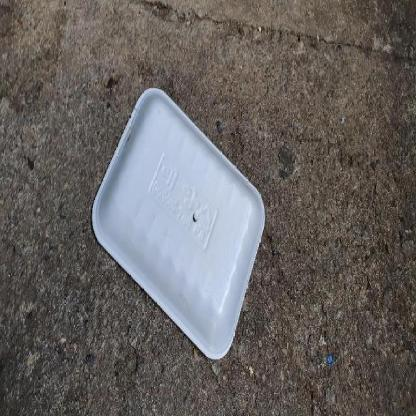Glass Cup: (92, 87, 265, 359), (93, 87, 265, 359)
